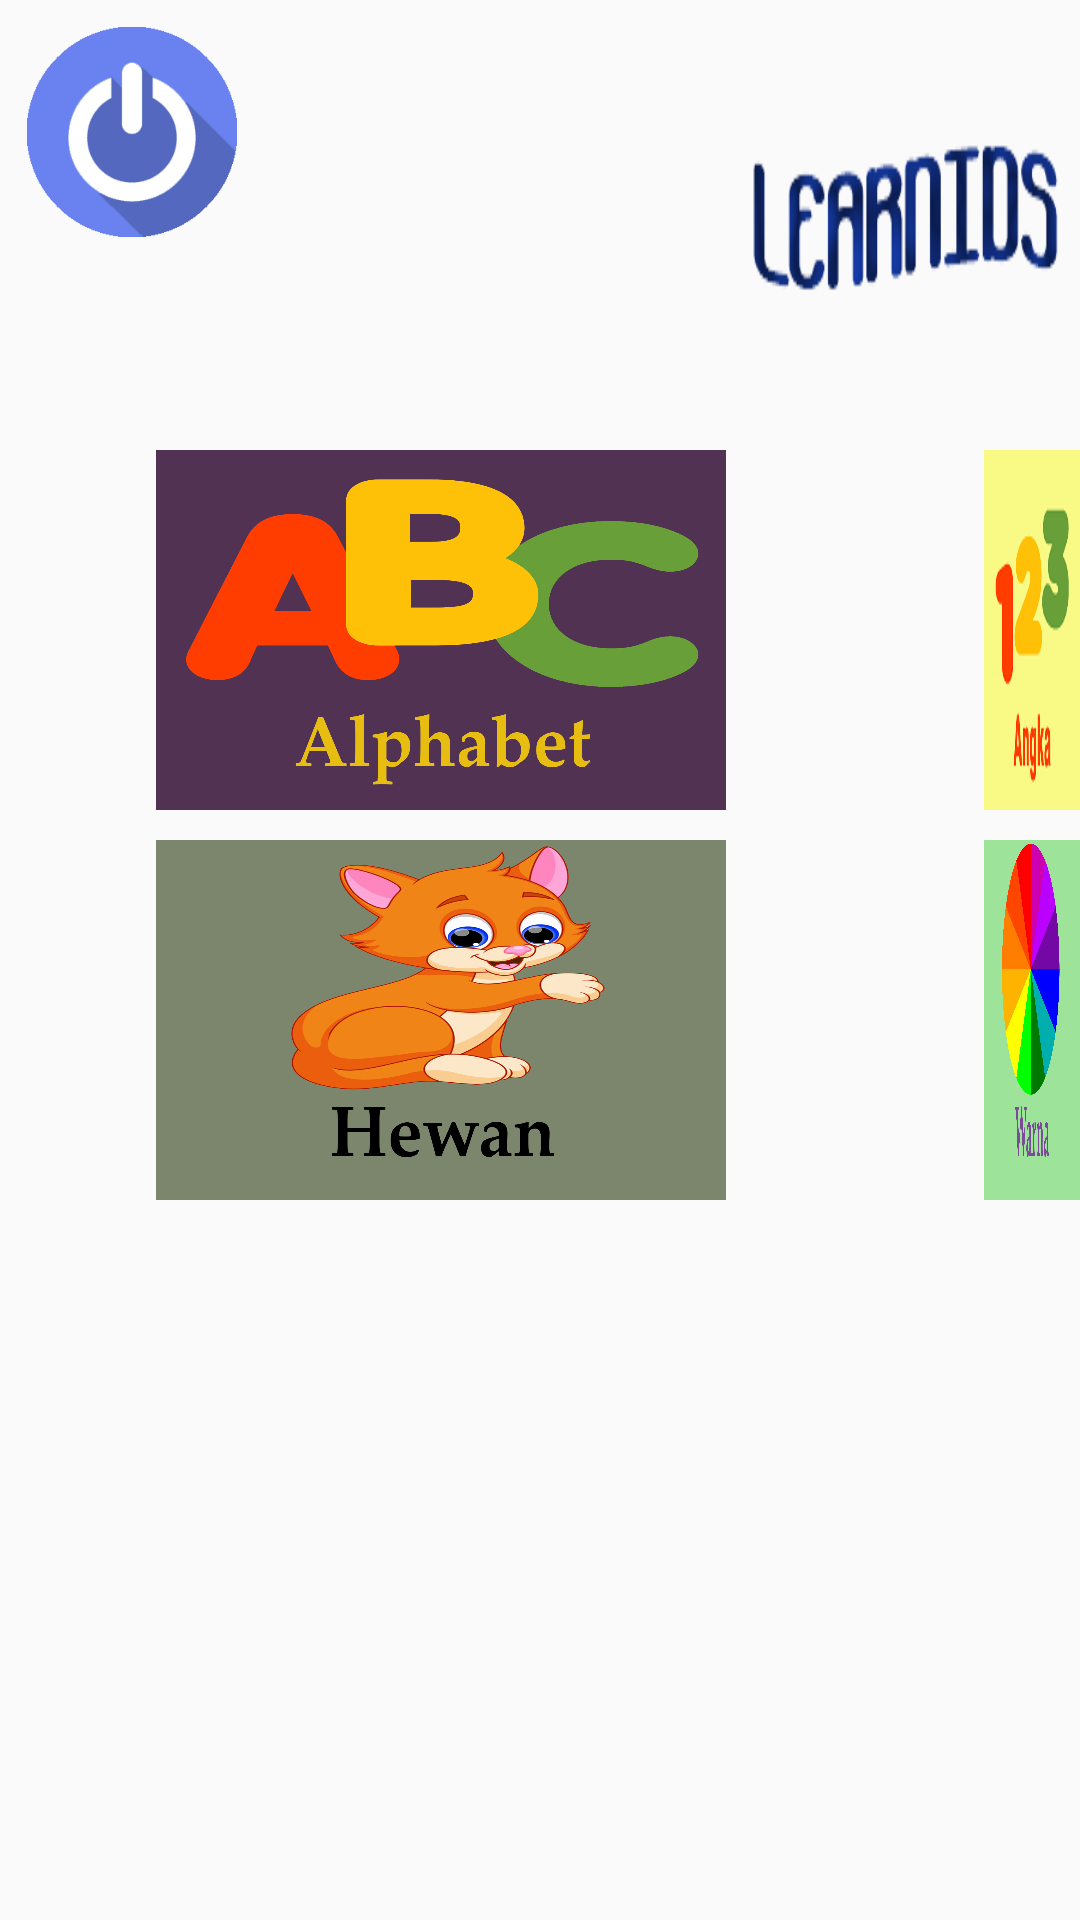

Icons on this 1080 × 1920 Android screen, each with its box as (x1, y1, x2, y2):
exit: (27, 27, 237, 237)
